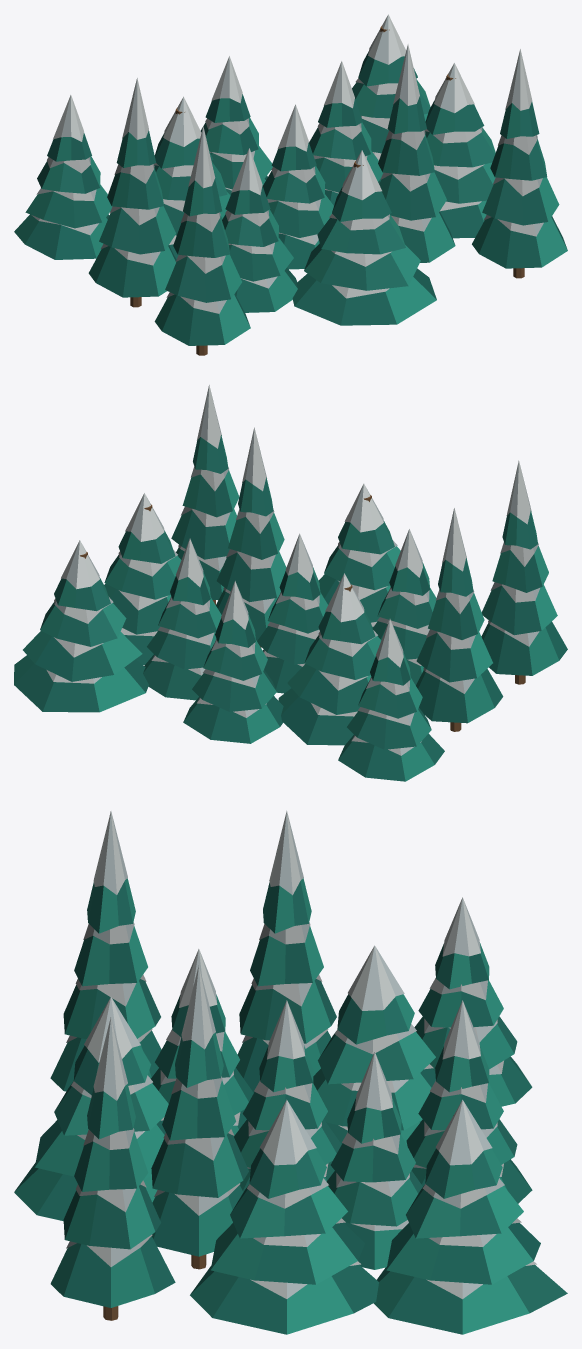
Rendered from fir-dense.glb.
3 views of the same model, one above another, from view 1: azimuth 30°, elevation 25°; view 2: azimuth 150°, elevation 25°; view 3: azimuth 270°, elevation 25° (orthographic). The views are drawn at different scales.
Visible parts, largest first — view 1: forest; view 2: forest; view 3: forest.
Boxes of the visible parts, x1=… form: forest: x1=14, y1=14, x2=567, y2=355; forest: x1=14, y1=385, x2=567, y2=781; forest: x1=14, y1=810, x2=567, y2=1334.
Size of the model in its own units: 9.78 by 4.94 by 8.19.
